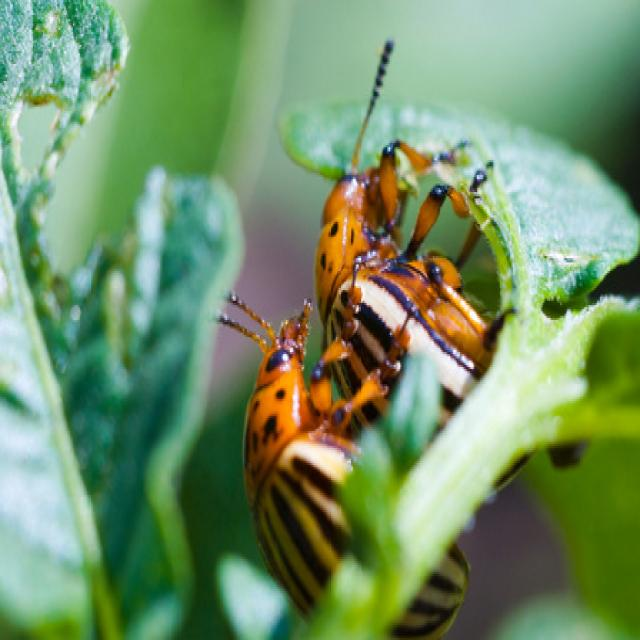ShuCaiHuaBanChong-Grown-: (217, 302, 477, 638), (316, 151, 557, 484)
